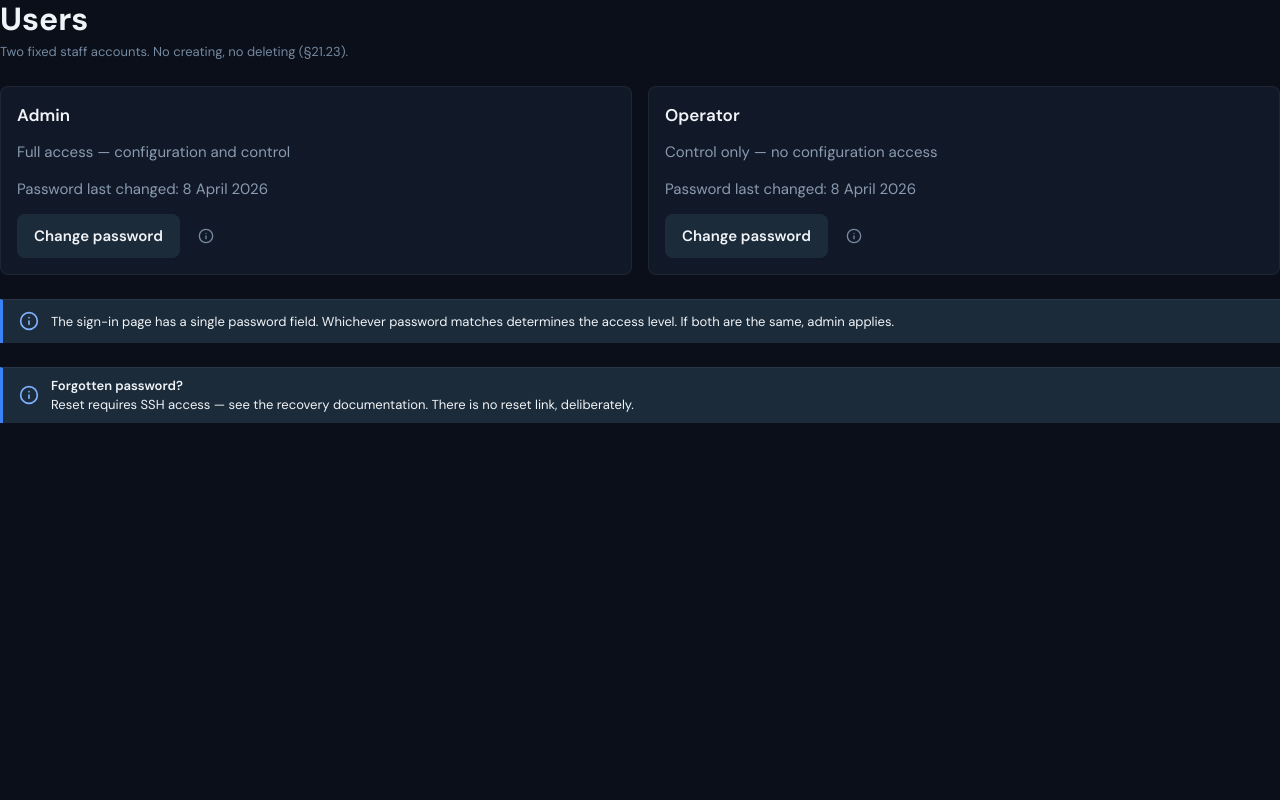
Test: Users gives every field and primary action help (spec §19.1) › the operator card's dialog once it opens
Click the button "Change password" below "Control only — no configuration access".
click(746, 236)  # box [665,214,828,258]
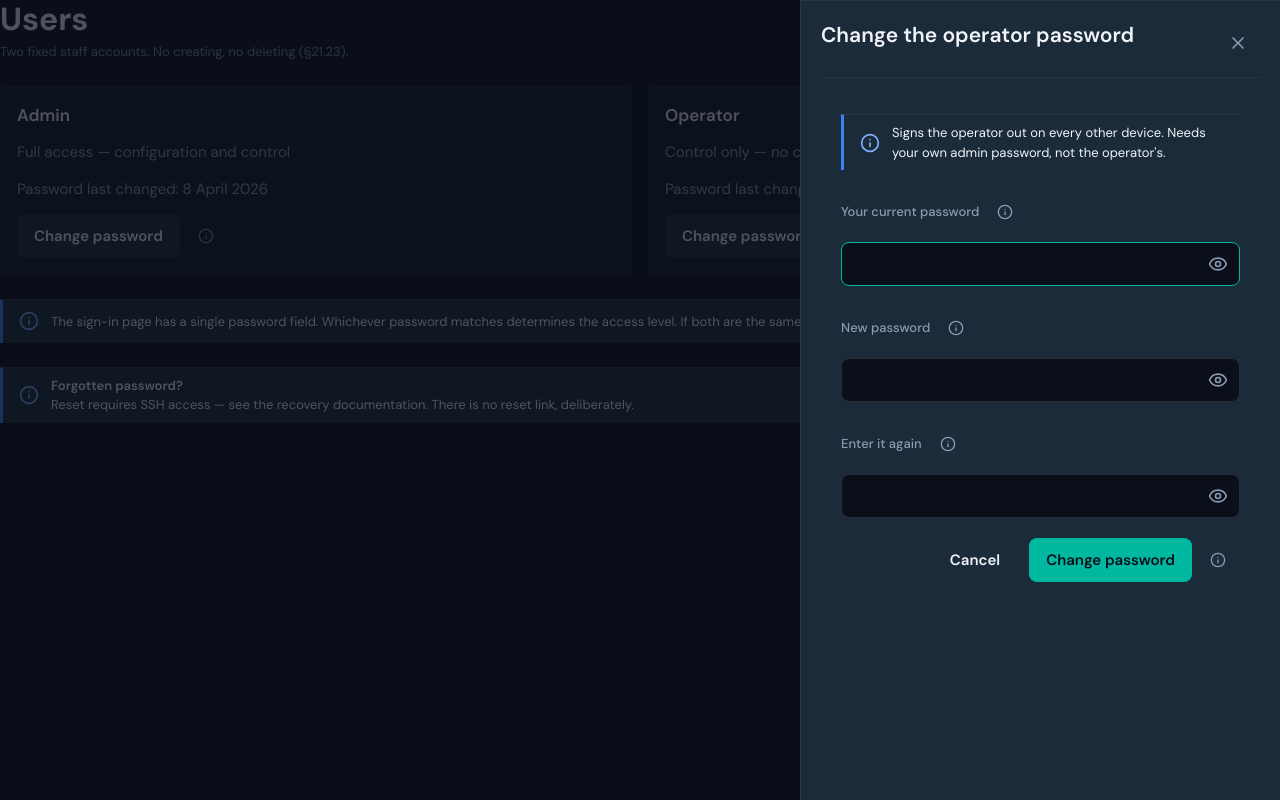
Expected: the heading "Change the operator password" is shown, [821,21,1134,50]
